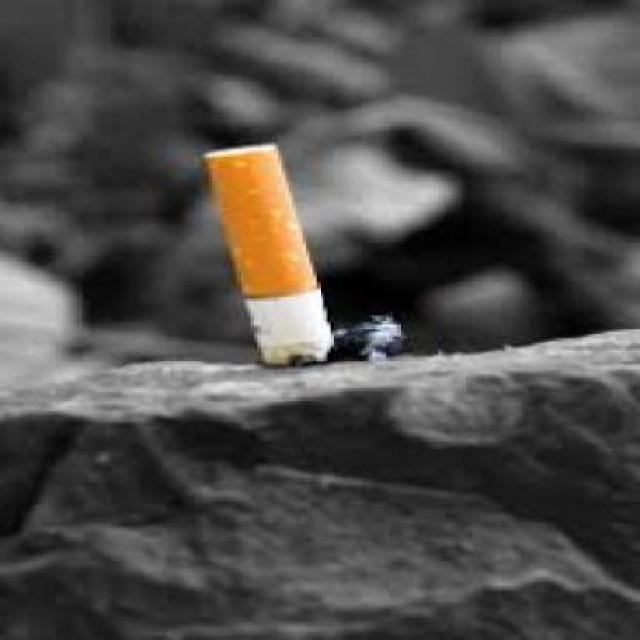cigarette: (160, 130, 354, 392)
